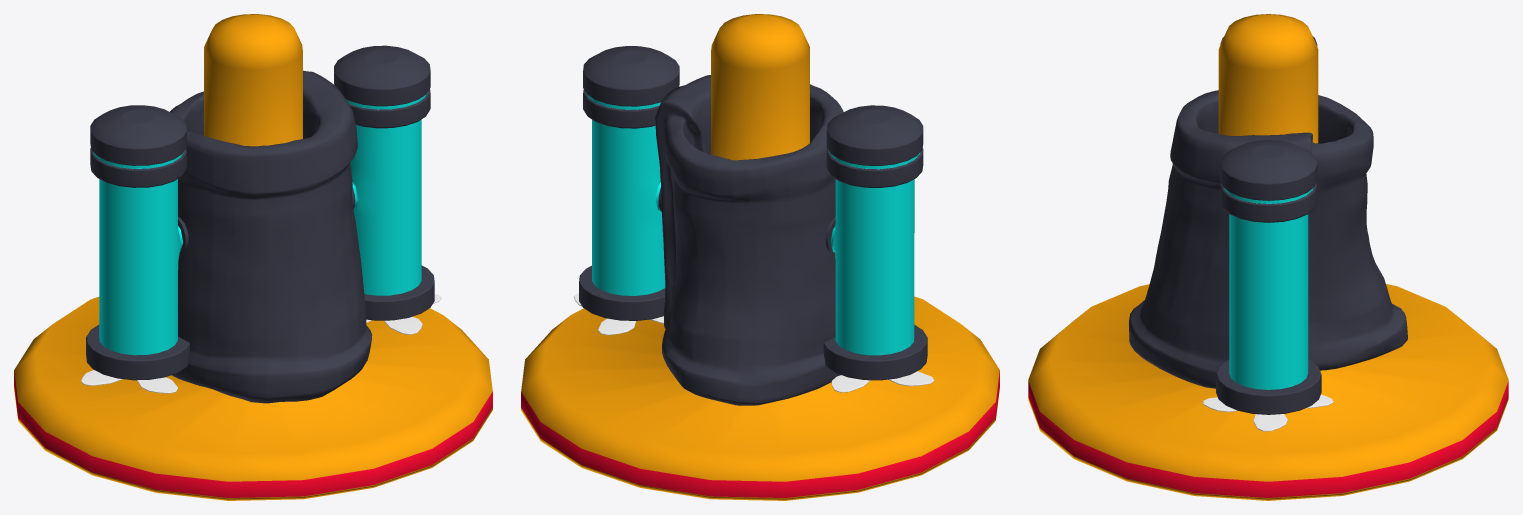
The model's file is dashNotFinal.fbx.
3 views of the same model, side by side, from view 1: azimuth 30°, elevation 25°; view 2: azimuth 150°, elevation 25°; view 3: azimuth 270°, elevation 25° (orthographic).
Parts seen in each view (by area): view 1: pCylinder1, tobillera, agua2, agua, estructura, estructura1, helices1, helices; view 2: pCylinder1, tobillera, agua2, agua, estructura, estructura1, helices1, helices; view 3: pCylinder1, tobillera, agua, estructura1, helices.
Boxes of the visible parts, x1,y1,x2,y2 form: pCylinder1: [14, 14, 492, 500]; tobillera: [170, 70, 372, 403]; agua2: [99, 179, 183, 355]; agua: [350, 119, 421, 295]; estructura: [86, 105, 189, 380]; estructura1: [334, 45, 434, 320]; helices1: [81, 370, 178, 393]; helices: [366, 294, 441, 334]; pCylinder1: [521, 14, 999, 500]; tobillera: [655, 75, 843, 405]; agua2: [830, 179, 914, 355]; agua: [592, 120, 665, 295]; estructura: [823, 105, 927, 380]; estructura1: [579, 46, 679, 320]; helices1: [831, 371, 934, 392]; helices: [573, 293, 663, 335]; pCylinder1: [1028, 14, 1508, 500]; tobillera: [1129, 90, 1407, 388]; agua: [1229, 214, 1308, 389]; estructura1: [1216, 140, 1321, 414]; helices: [1203, 394, 1333, 431].
Size of the model in its own units: 22.73 by 19.58 by 22.73.
